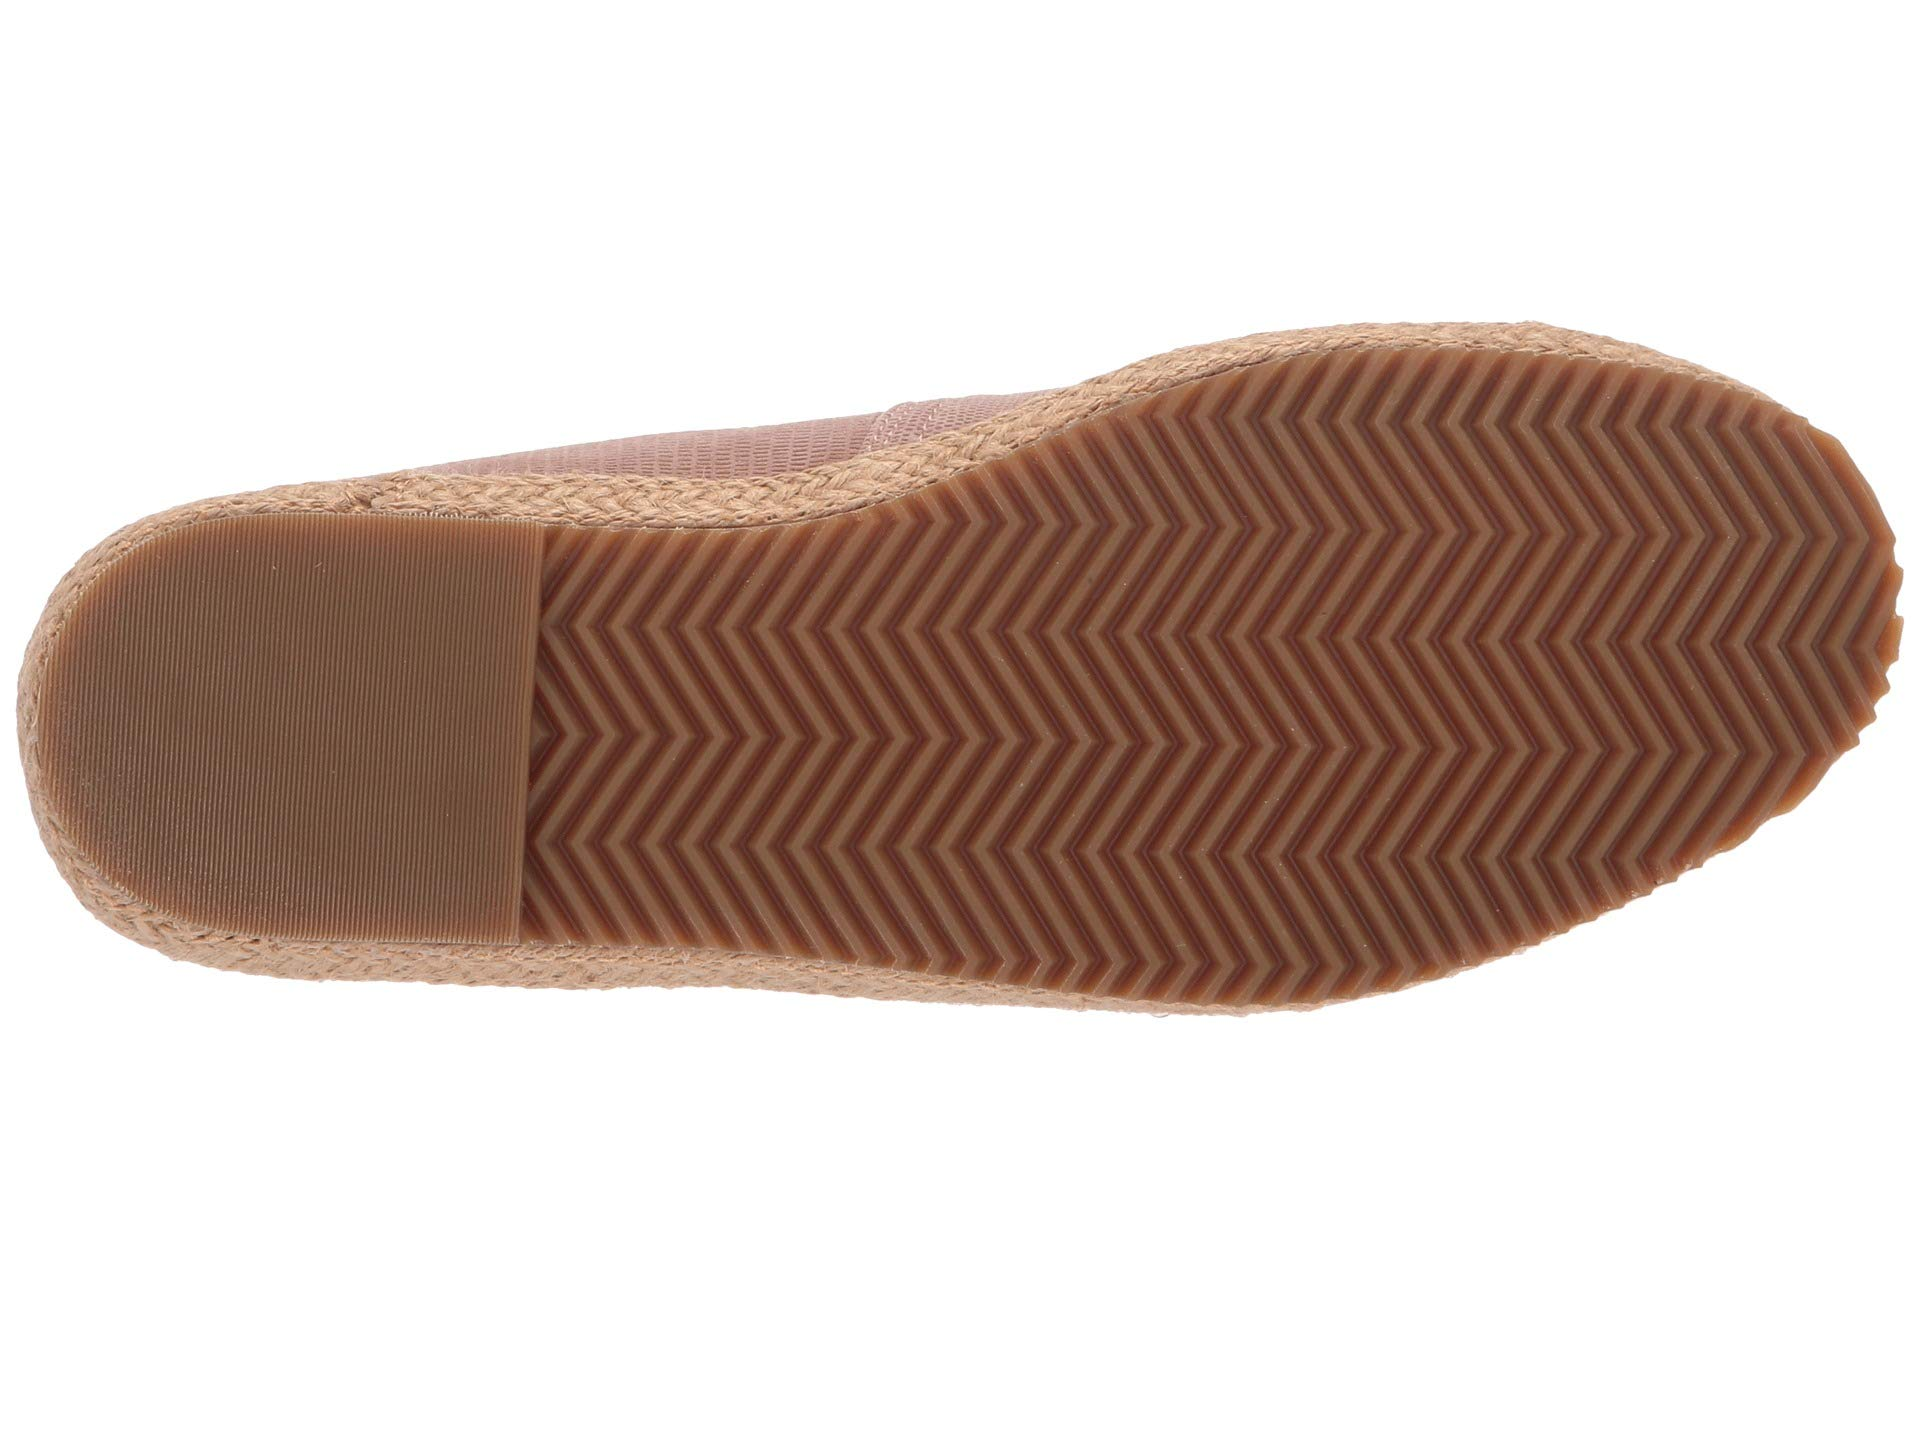chevron: (1060, 495, 1513, 957), (605, 557, 990, 953), (1586, 479, 1867, 771)
line: (187, 573, 497, 885)
